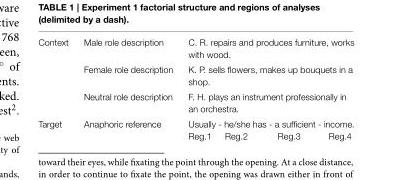table: (37, 37, 353, 140)
table column: (179, 37, 353, 140), (75, 37, 179, 140), (37, 37, 75, 140)
table row: (37, 61, 353, 89), (37, 89, 353, 116), (37, 37, 353, 61), (37, 116, 353, 140)
table spanning cell: (37, 37, 75, 116)
